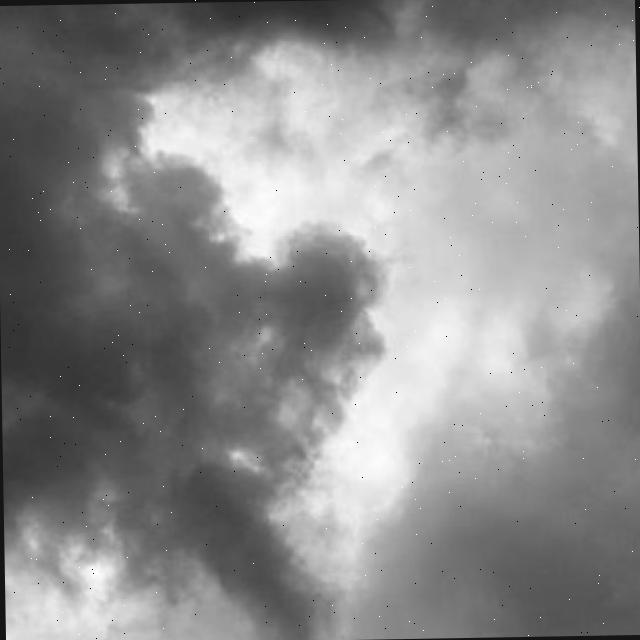As: (1, 35, 640, 598)
